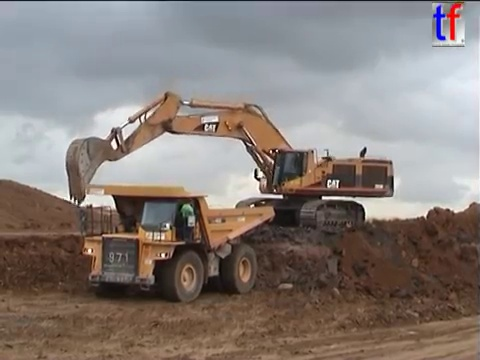excavator: (63, 88, 397, 236)
truck: (75, 181, 276, 304)
worker: (176, 195, 200, 243)
